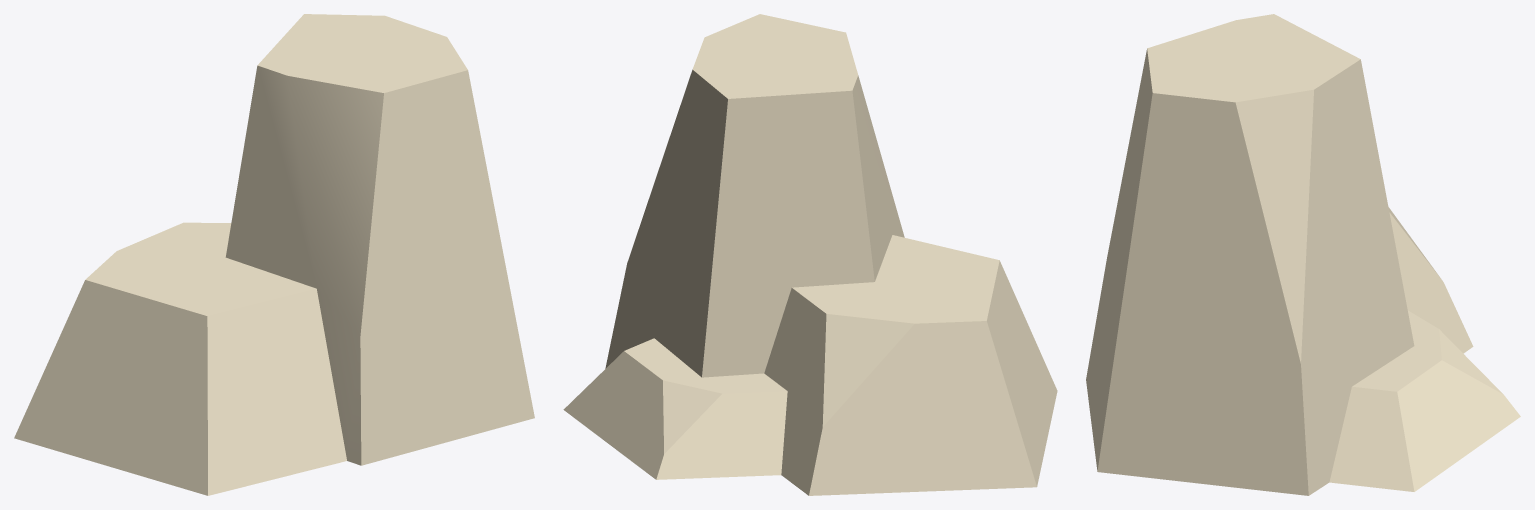
3 views of the same model, side by side, from view 1: azimuth 30°, elevation 25°; view 2: azimuth 150°, elevation 25°; view 3: azimuth 270°, elevation 25° (orthographic). The views are drawn at different scales.
Visible parts, largest first — view 1: rockA; view 2: rockA; view 3: rockA.
Boxes of the visible parts, bbox=[...] form: rockA: bbox=[14, 14, 534, 495]; rockA: bbox=[563, 14, 1057, 495]; rockA: bbox=[1086, 14, 1520, 495].
Bounding box in the file's own units: 0.5552 × 0.3927 × 0.4324.
